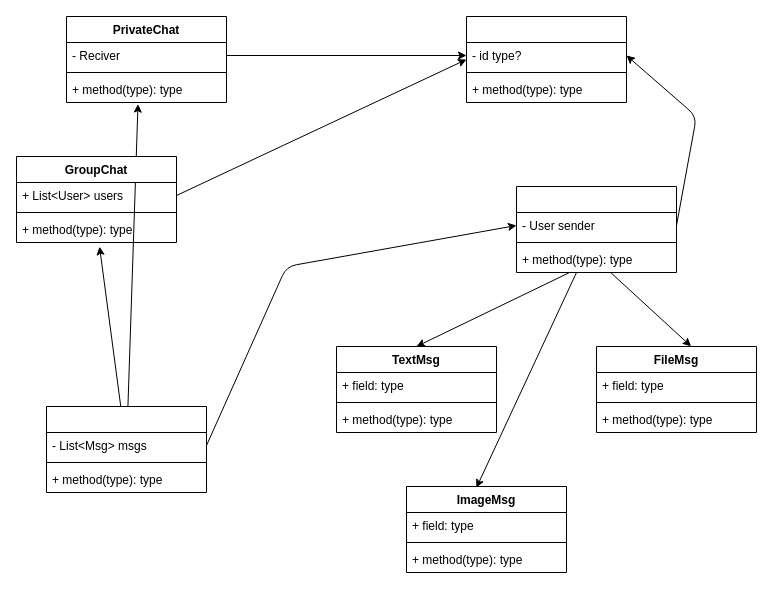
Some shapes in this 773 by 589 pixel diagram are drawn without their labels. Each missing label, with the box of its shape:
Chat: (46, 406, 206, 492)
Message: (516, 186, 676, 272)
User: (466, 16, 626, 102)
